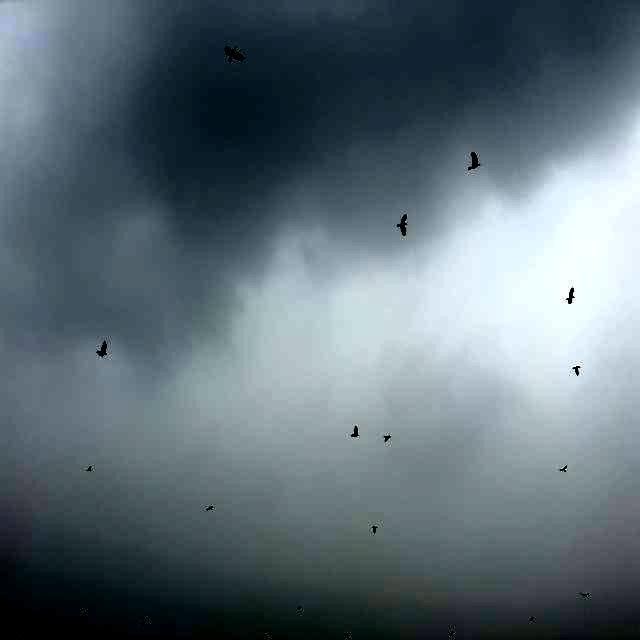bird: (220, 40, 247, 72), (574, 586, 602, 608), (394, 208, 413, 240), (78, 458, 102, 482), (465, 147, 484, 176), (378, 428, 400, 453), (564, 282, 582, 308), (348, 420, 364, 448), (558, 458, 572, 488), (92, 340, 111, 362), (201, 500, 223, 519), (570, 358, 583, 382), (368, 522, 383, 539)
